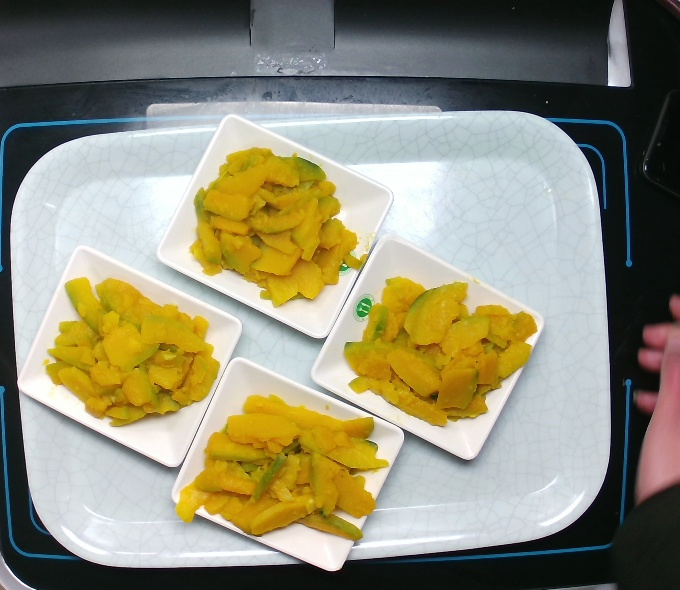wcq-NanGuaPian: (182, 389, 396, 555), (338, 267, 549, 430), (36, 255, 226, 431), (185, 141, 362, 302)
